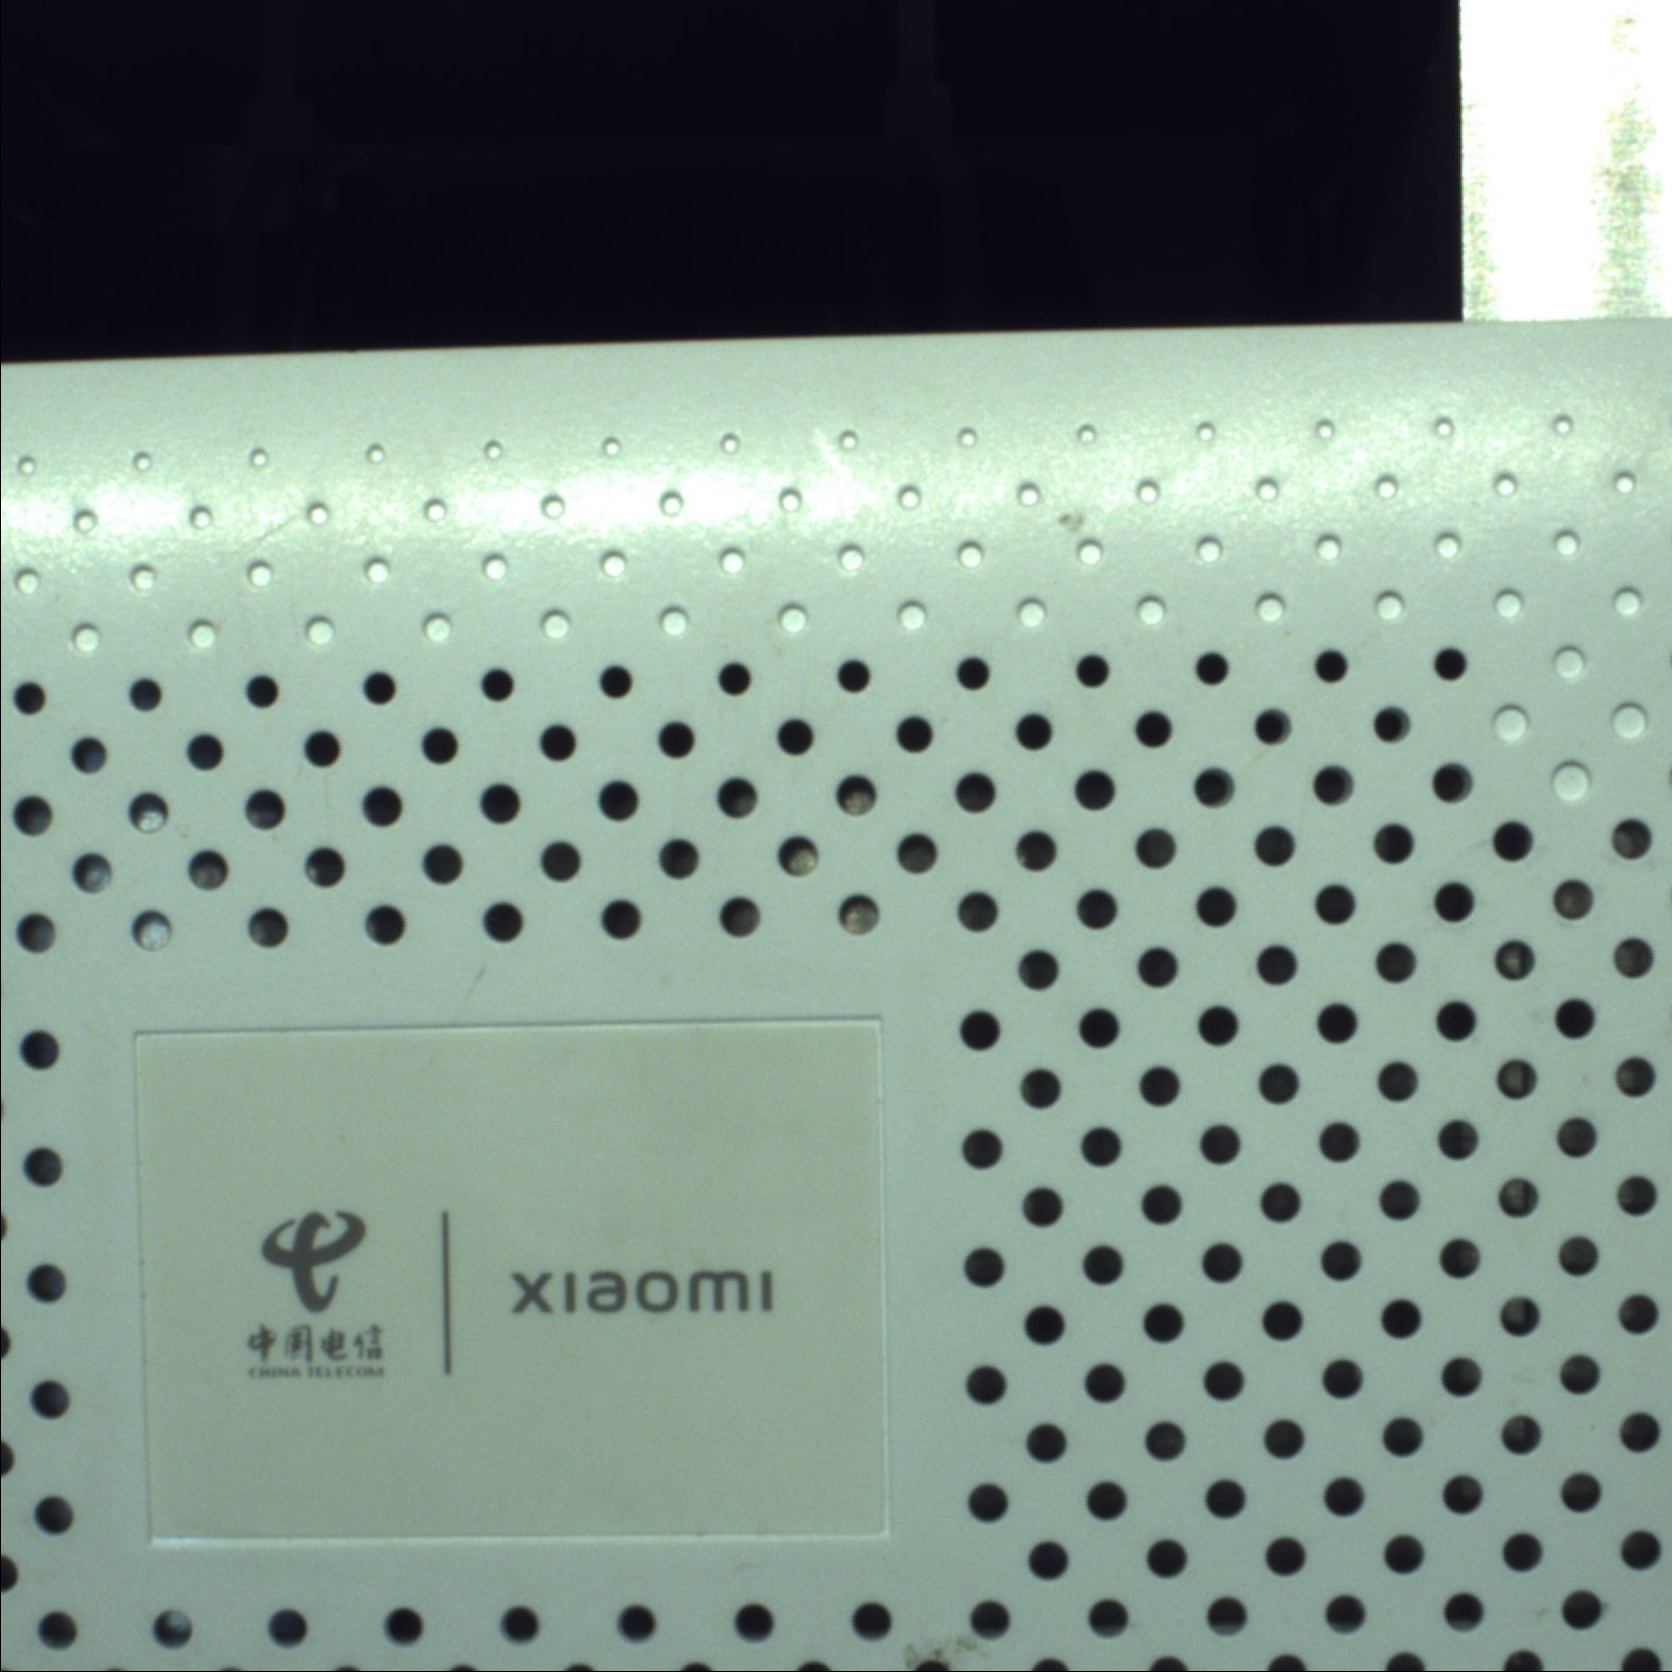MAA_Telecom: (214, 1200, 781, 1390)
